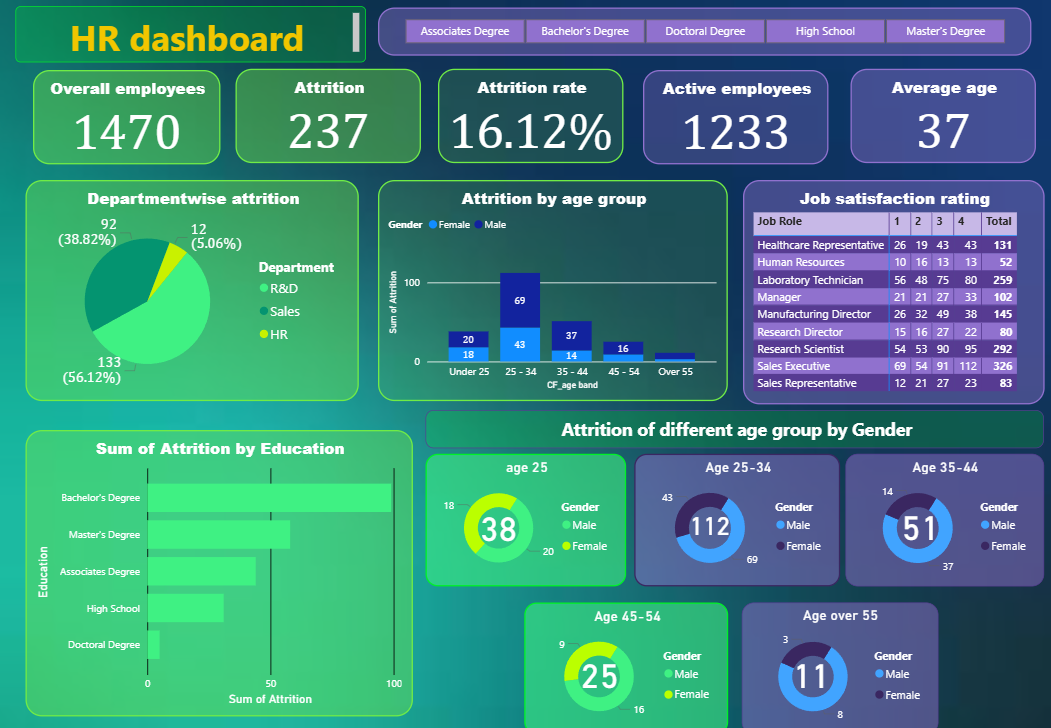

This screenshot's page, from the dashboard's own definition file:
{"tool":"powerbi","page":{"name":"Page 1","canvas":[1280,900],"ordinal":0},"visuals":[{"type":"card","title":"Overall employees","fields":{"Values":["Sum(HR table.Employee Count)"]},"box":[41.7,85.4,227.1,114.6],"z":0},{"type":"card","title":"Attrition ","fields":{"Values":["Sum(HR table.Attrition)"]},"box":[287.5,83.3,225,114.6],"z":1000},{"type":"card","title":"Attrition ","fields":{"Values":["HR table.Attrition rate"]},"box":[533.3,83.3,225,114.6],"z":2000},{"type":"card","title":"Active employees","fields":{"Values":["Sum(HR table.CF_current Employee)"]},"box":[781.2,85.4,225,114.6],"z":3000},{"type":"card","title":"Active employees","fields":{"Values":["Avg(HR table.Age)"]},"box":[1033.3,83.3,225,114.6],"z":4000},{"type":"pieChart","title":"Departmentwise attrition","fields":{"Category":["HR table.Department"],"Y":["Sum(HR table.Attrition)"]},"box":[33.3,218.7,404,268],"z":5000},{"type":"barChart","fields":{"Category":["HR table.Education"],"Y":["Sum(HR table.Attrition)"]},"box":[33.4,521.2,469.4,347.5],"z":6000},{"type":"columnChart","title":"Attrition by age group","fields":{"Series":["HR table.Gender"],"Category":["HR table.CF_age band"],"Y":["Sum(HR table.Attrition)"]},"box":[461.3,218.7,424,268],"z":7000},{"type":"pivotTable","title":"Job satisfaction rating ","fields":{"Rows":["HR table.Job Role"],"Columns":["HR table.Job Satisfaction"],"Values":["Sum(HR table.Employee Count)"]},"box":[902.7,218.7,365.3,272],"z":8000},{"type":"donutChart","title":"age 25","fields":{"Y":["Sum(HR table.Attrition)"],"Category":["HR table.Gender"]},"box":[518.5,550.6,243.2,160.5],"z":9000},{"type":"donutChart","title":"Age over 55","fields":{"Y":["Sum(HR table.Attrition)"],"Category":["HR table.Gender"]},"box":[901.8,730.9,238.2,160],"z":10000},{"type":"donutChart","title":"Age 45-54","fields":{"Y":["Sum(HR table.Attrition)"],"Category":["HR table.Gender"]},"box":[638.2,730.9,247.3,160],"z":11000},{"type":"donutChart","title":"Age 25-34","fields":{"Y":["Sum(HR table.Attrition)"],"Category":["HR table.Gender"]},"box":[771.6,550.6,249.4,160.5],"z":12000},{"type":"donutChart","title":"Age 35-44","fields":{"Y":["Sum(HR table.Attrition)"],"Category":["HR table.Gender"]},"box":[1027.2,550.6,240.7,160.5],"z":13000},{"type":"card","fields":{"Values":["Sum(HR table.Attrition)"]},"box":[579,609.9,56.8,53.1],"z":13001},{"type":"card","fields":{"Values":["Sum(HR table.Attrition)"]},"box":[958,788.9,56.8,53.1],"z":13002},{"type":"card","fields":{"Values":["Sum(HR table.Attrition)"]},"box":[1088.9,608.6,56.8,53.1],"z":13003},{"type":"card","fields":{"Values":["Sum(HR table.Attrition)"]},"box":[701.2,788.9,56.8,53.1],"z":13004},{"type":"card","fields":{"Values":["Sum(HR table.Attrition)"]},"box":[825.9,611.1,74.1,51.9],"z":13005},{"type":"textbox","box":[518.7,497.3,749.3,46.7],"z":13006},{"type":"slicer","fields":{"Values":["HR table.Education"]},"box":[460.4,8.3,791.7,58.3],"z":13007},{"type":"textbox","box":[21.5,7.7,424.6,67.7],"z":13008}]}

Visuals, with their boxes in screenshot pixels (x1, y1, x2, y2), scaled from the page's 1280x900 canvas onto the 1051x728 screenshot:
"Overall employees" card: 34, 69, 221, 162
"Attrition " card: 236, 67, 421, 160
"Attrition " card: 438, 67, 623, 160
"Active employees" card: 641, 69, 826, 162
"Active employees" card: 848, 67, 1033, 160
"Departmentwise attrition" pieChart: 27, 177, 359, 394
barChart - HR table.Education x Sum(HR table.Attrition): 27, 422, 413, 703
"Attrition by age group" columnChart: 379, 177, 727, 394
"Job satisfaction rating " pivotTable: 741, 177, 1041, 397
"age 25" donutChart: 426, 445, 625, 575
"Age over 55" donutChart: 740, 591, 936, 721
"Age 45-54" donutChart: 524, 591, 727, 721
"Age 25-34" donutChart: 634, 445, 838, 575
"Age 35-44" donutChart: 843, 445, 1041, 575
card - Sum(HR table.Attrition): 475, 493, 522, 536
card - Sum(HR table.Attrition): 787, 638, 833, 681
card - Sum(HR table.Attrition): 894, 492, 941, 535
card - Sum(HR table.Attrition): 576, 638, 622, 681
card - Sum(HR table.Attrition): 678, 494, 739, 536
textbox: 426, 402, 1041, 440
slicer - HR table.Education: 378, 7, 1028, 54
textbox: 18, 6, 366, 61
